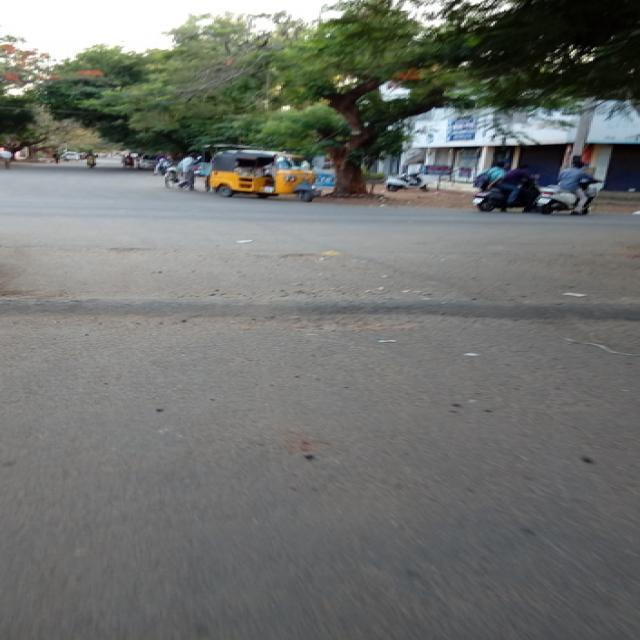NonMarked Bump: (15, 275, 637, 327)
